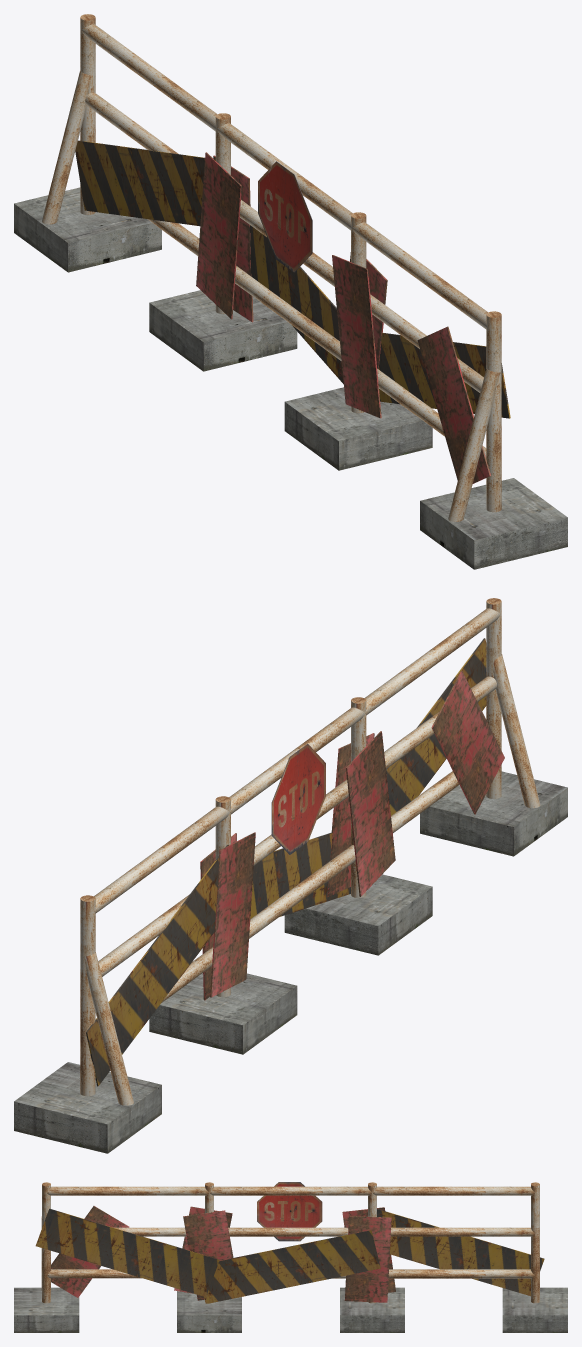
File: fence.obj
3 renders of one model, top to bottom at view 1: azimuth 30°, elevation 25°; view 2: azimuth 150°, elevation 25°; view 3: azimuth 270°, elevation 25°, orthographic. The views are drawn at different scales.
Parts seen in each view (by area): view 1: Cylinder.004_Cylinder.005, Cube.010_Cube.011, Cube.001, Cube, Cube.002, Cube.008_Cube.009, Cube.005, Cube.009_Cube.010, Cube.004, Cube.006, Cube.012_Cube.013, Cube.011_Cube.012 (+2 smaller); view 2: Cylinder.004_Cylinder.005, Cube.008_Cube.009, Cube.010_Cube.011, Cube.002, Cube.001, Cube, Cube.005, Cube.009_Cube.010, Cube.004, Cube.006, Cube.012_Cube.013, Cube.011_Cube.012 (+1 smaller); view 3: Cylinder.004_Cylinder.005, Cube.011_Cube.012, Cube.012_Cube.013, Cube.010_Cube.011, Cube.001, Cube.008_Cube.009, Cube.003, Cube.006, Cube.002, Cube, Cube.007_Cube.008, Cube.004 (+2 smaller).
Part boxes in pixels (bbox=[...]): Cylinder.004_Cylinder.005: bbox=[42, 14, 501, 521]; Cube.010_Cube.011: bbox=[75, 140, 215, 226]; Cube.001: bbox=[420, 478, 567, 569]; Cube: bbox=[284, 387, 432, 470]; Cube.002: bbox=[149, 290, 297, 371]; Cube.008_Cube.009: bbox=[14, 187, 161, 272]; Cube.005: bbox=[332, 255, 381, 418]; Cube.009_Cube.010: bbox=[196, 152, 241, 319]; Cube.004: bbox=[417, 326, 490, 483]; Cube.006: bbox=[258, 161, 312, 272]; Cube.012_Cube.013: bbox=[250, 225, 343, 383]; Cube.011_Cube.012: bbox=[378, 333, 510, 418]; Cylinder.004_Cylinder.005: bbox=[80, 598, 540, 1105]; Cube.008_Cube.009: bbox=[14, 1062, 161, 1153]; Cube.010_Cube.011: bbox=[86, 844, 228, 1086]; Cube.002: bbox=[149, 973, 297, 1054]; Cube.001: bbox=[420, 771, 567, 856]; Cube: bbox=[284, 874, 432, 955]; Cube.005: bbox=[346, 731, 395, 896]; Cube.009_Cube.010: bbox=[210, 832, 255, 997]; Cube.004: bbox=[431, 670, 504, 814]; Cube.006: bbox=[271, 743, 325, 854]; Cube.012_Cube.013: bbox=[250, 832, 350, 918]; Cube.011_Cube.012: bbox=[386, 638, 486, 815]; Cylinder.004_Cylinder.005: bbox=[41, 1182, 539, 1303]; Cube.011_Cube.012: bbox=[35, 1208, 219, 1297]; Cube.012_Cube.013: bbox=[204, 1230, 380, 1303]; Cube.010_Cube.011: bbox=[377, 1209, 544, 1296]; Cube.001: bbox=[14, 1287, 79, 1332]; Cube.008_Cube.009: bbox=[502, 1287, 567, 1332]; Cube.003: bbox=[344, 1216, 391, 1302]; Cube.006: bbox=[257, 1182, 322, 1241]; Cube.002: bbox=[340, 1287, 404, 1332]; Cube: bbox=[177, 1291, 241, 1332]; Cube.007_Cube.008: bbox=[183, 1210, 233, 1300]; Cube.004: bbox=[51, 1206, 129, 1297].
Bounding box in the file's own units: 2 × 4.57 × 17.
28 materials, 28 textured.
